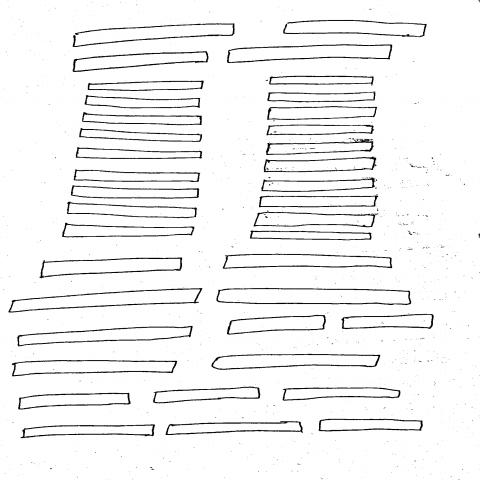Textbox: (8, 288, 204, 313), (71, 23, 237, 48), (17, 326, 193, 348), (216, 288, 413, 306), (226, 45, 394, 64), (72, 51, 210, 74), (38, 258, 185, 279), (211, 354, 382, 372), (12, 359, 178, 377), (222, 254, 395, 270), (282, 20, 428, 38), (67, 202, 198, 220), (165, 421, 305, 437), (18, 392, 131, 411), (21, 425, 156, 440), (226, 316, 327, 336), (62, 224, 196, 239), (253, 212, 377, 228), (263, 158, 377, 175), (71, 185, 200, 200), (153, 388, 262, 405), (82, 112, 203, 127), (283, 387, 402, 402), (75, 170, 201, 184), (261, 179, 378, 194), (80, 129, 204, 143), (342, 313, 435, 331), (267, 107, 378, 122), (76, 147, 203, 160), (266, 143, 375, 158), (259, 196, 379, 209), (84, 97, 201, 110), (319, 419, 425, 432), (249, 231, 374, 242), (267, 92, 378, 104), (87, 81, 206, 92), (267, 125, 375, 137), (269, 76, 376, 87)
